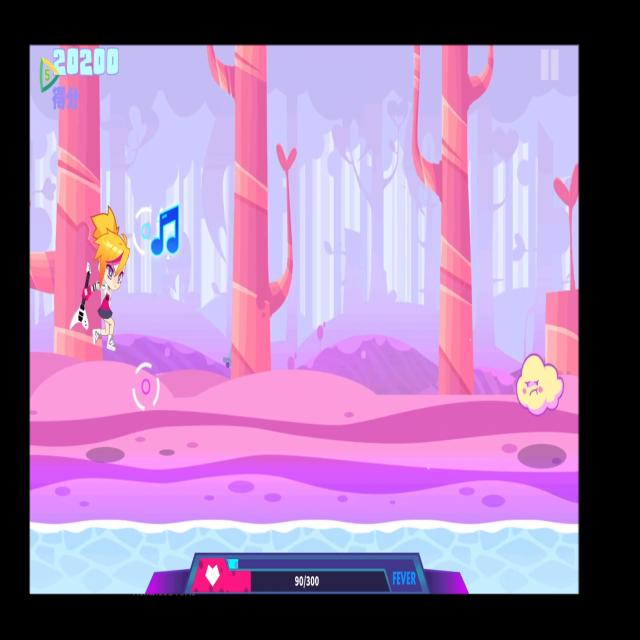Music note: (150, 199, 187, 267)
yun: (513, 346, 567, 418)
